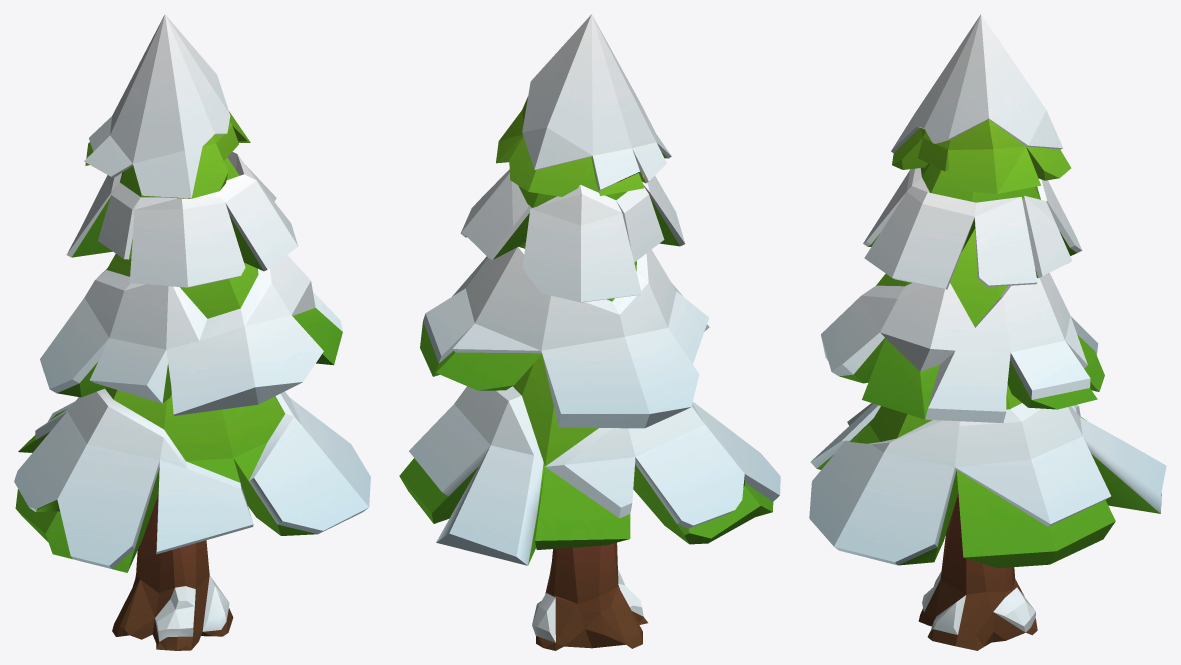
3 views of the same model, side by side, from view 1: azimuth 30°, elevation 25°; view 2: azimuth 150°, elevation 25°; view 3: azimuth 270°, elevation 25° (orthographic).
Visible parts, largest first — view 1: SnowyTree; view 2: SnowyTree; view 3: SnowyTree.
Boxes of the visible parts, bbox=[...] form: SnowyTree: bbox=[14, 14, 370, 650]; SnowyTree: bbox=[399, 14, 780, 650]; SnowyTree: bbox=[809, 14, 1166, 650].
Size of the model in its own units: 266 by 500 by 266.
1 material, 1 textured.
